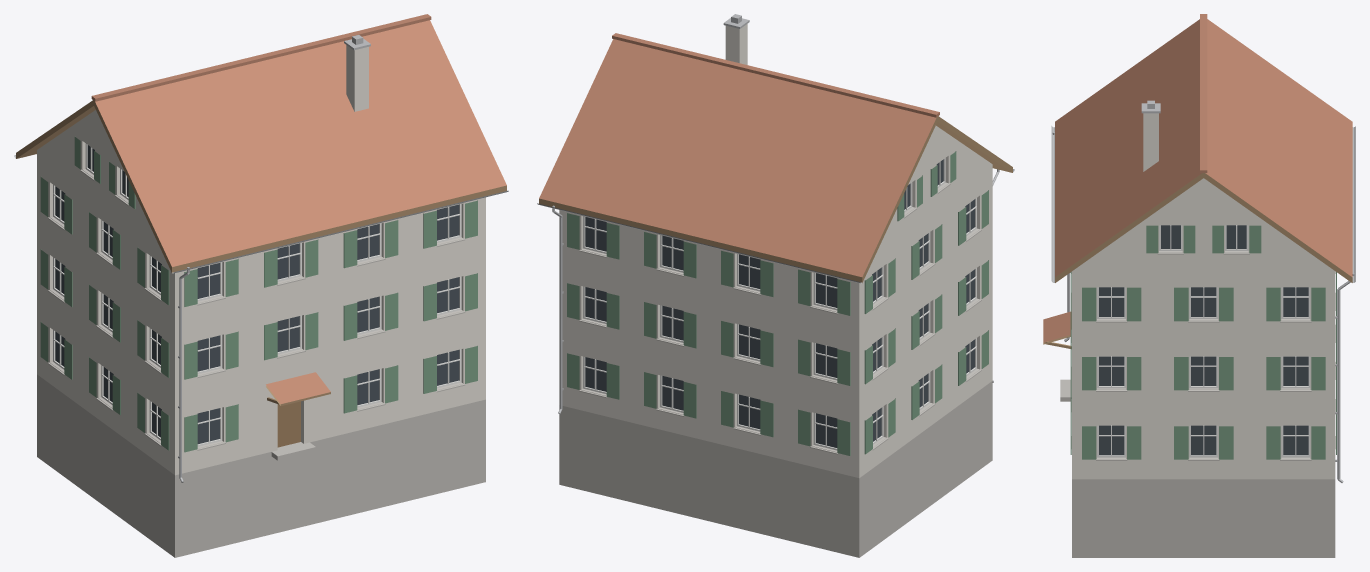
File: house_gable_3_m.glb
3 renders of one model, left to right at view 1: azimuth 30°, elevation 25°; view 2: azimuth 150°, elevation 25°; view 3: azimuth 270°, elevation 25°, orthographic. The views are drawn at different scales.
Visible parts, largest first — view 1: house_gable_3_m; view 2: house_gable_3_m; view 3: house_gable_3_m.
Boxes of the visible parts, x1=… form: house_gable_3_m: x1=14, y1=14, x2=508, y2=557; house_gable_3_m: x1=537, y1=14, x2=1014, y2=557; house_gable_3_m: x1=1043, y1=14, x2=1355, y2=557.
Bounding box in the file's own units: 14.04 × 17.41 × 11.88.
